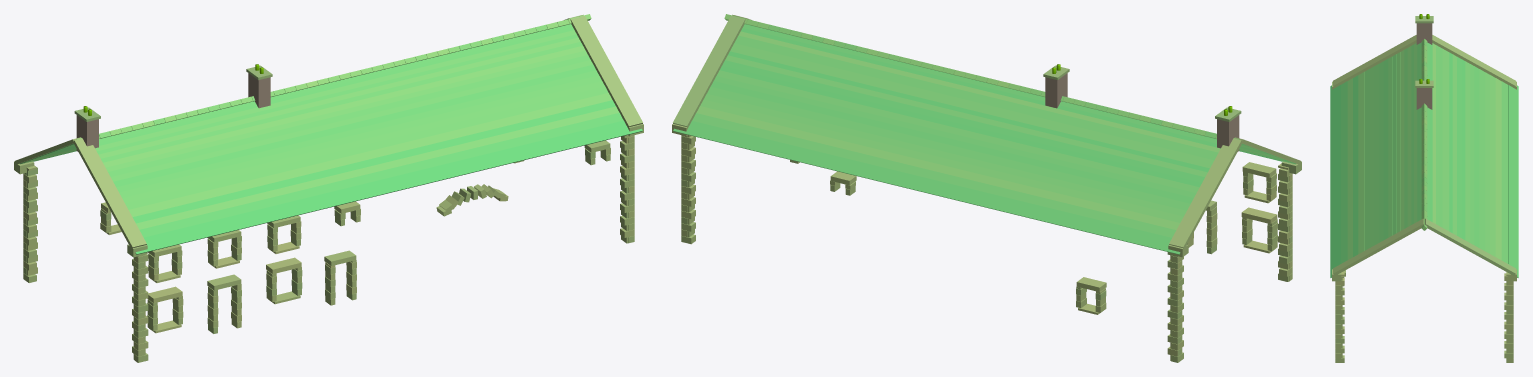
The model's file is SM_Bld_063_Stone.glb.
The picture shows the model from 3 angles, left to right: view 1: azimuth 30°, elevation 25°; view 2: azimuth 150°, elevation 25°; view 3: azimuth 270°, elevation 25°; orthographic projection. The views are drawn at different scales.
Parts seen in each view (by area): view 1: SM_Bld_063_Stone; view 2: SM_Bld_063_Stone; view 3: SM_Bld_063_Stone.
Part boxes in pixels (box(x1,y1,x2,y2)): SM_Bld_063_Stone: box(14, 14, 643, 362); SM_Bld_063_Stone: box(672, 14, 1301, 362); SM_Bld_063_Stone: box(1330, 14, 1518, 362).
Size of the model in its own units: 26 by 10.14 by 10.61.
